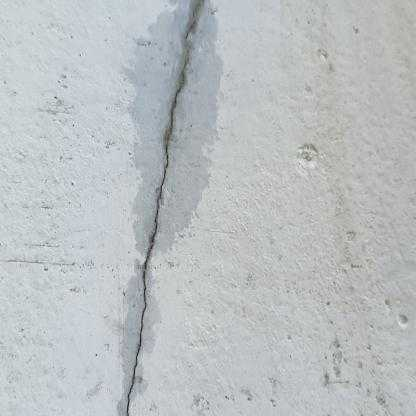crack: (126, 0, 203, 416)
